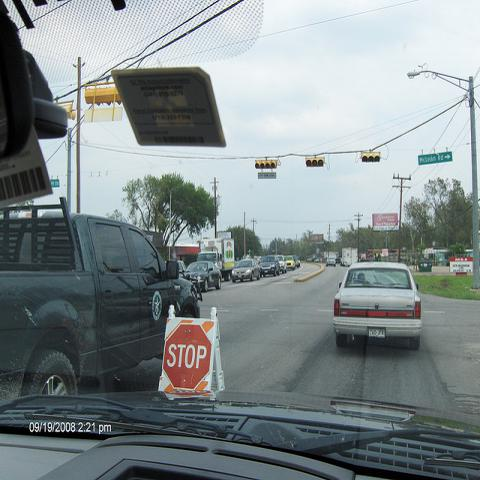car: (333, 261, 423, 350), (186, 261, 222, 292), (232, 258, 260, 283), (260, 255, 280, 278), (283, 255, 296, 270), (276, 255, 286, 274), (326, 256, 336, 267), (292, 256, 300, 268), (178, 261, 186, 271), (335, 257, 344, 264)
truck: (1, 197, 204, 397), (197, 238, 234, 281)
